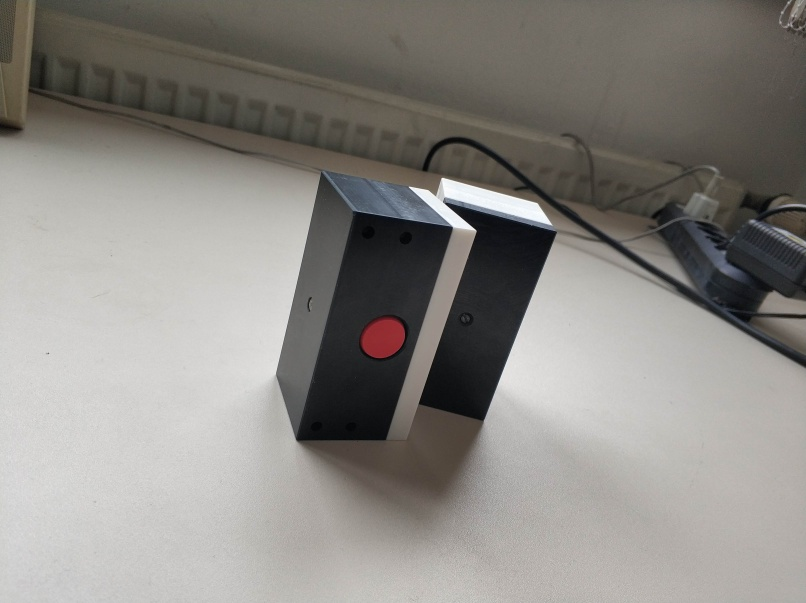white+black+red: (275, 168, 476, 445)
